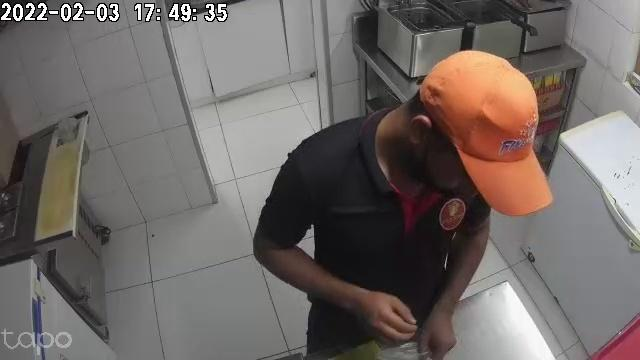no_gloves: (353, 289, 415, 343)
